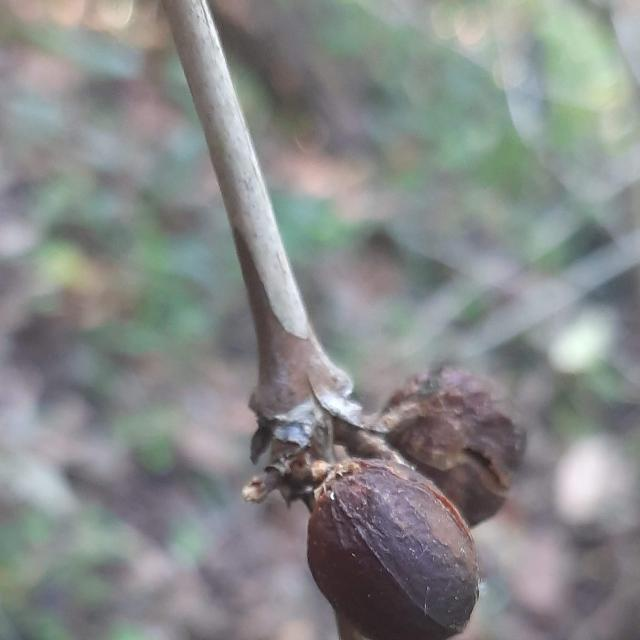red: (308, 459, 479, 640), (382, 369, 526, 527)
